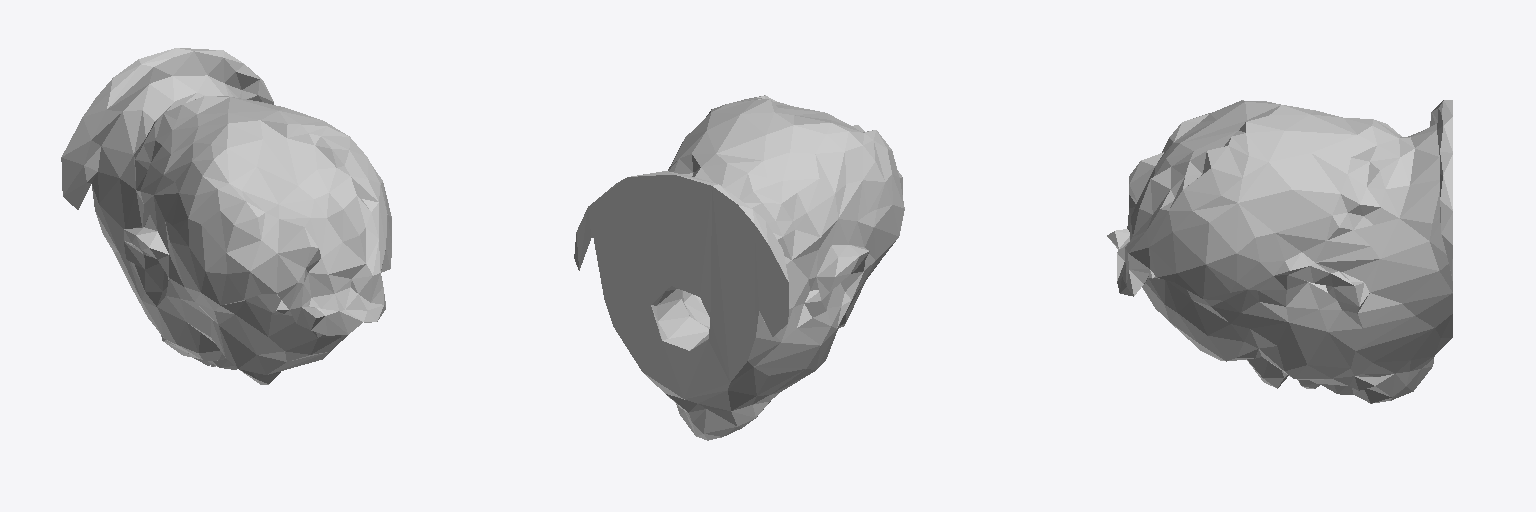
File: 49316-face_QEM_90pct.obj
The picture shows the model from 3 angles: view 1: azimuth 30°, elevation 25°; view 2: azimuth 150°, elevation 25°; view 3: azimuth 270°, elevation 25°; orthographic projection.
Size of the model in its own units: 0.7257 by 0.9182 by 1.01.